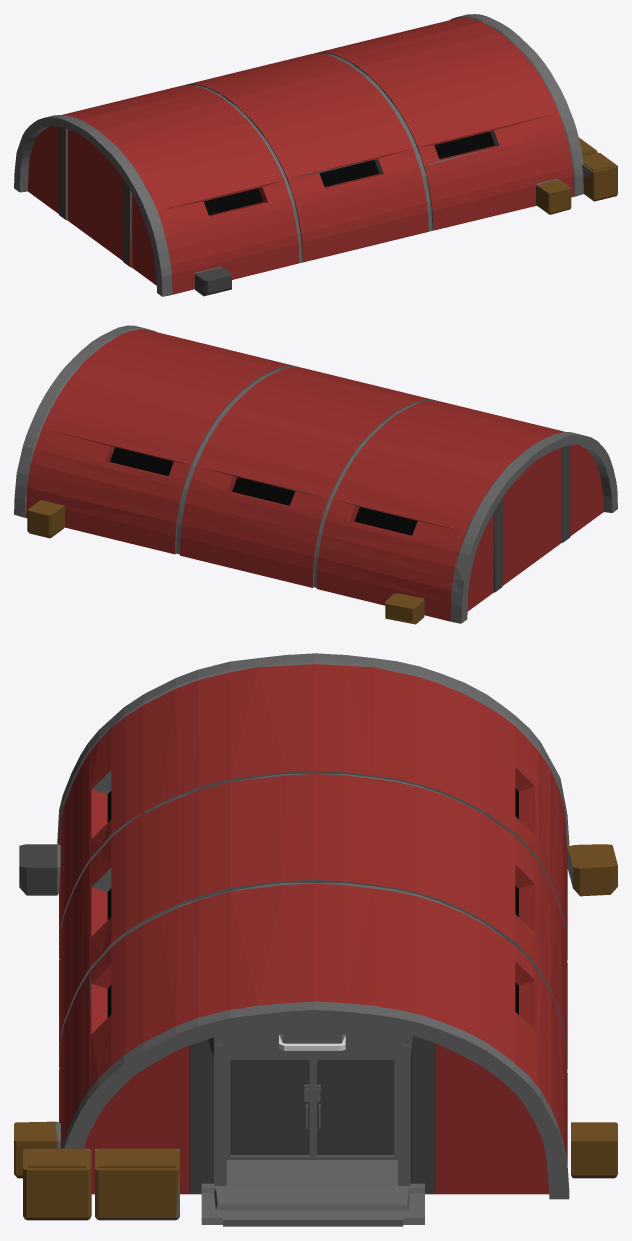
Rendered from building barracks.glb.
The picture shows the model from 3 angles, top to bottom: view 1: azimuth 30°, elevation 25°; view 2: azimuth 150°, elevation 25°; view 3: azimuth 270°, elevation 25°; orthographic projection. The views are drawn at different scales.
Visible parts, largest first — view 1: tripo_node_9400018c-9cc3-415a-bbe2-a365e405f9be; view 2: tripo_node_9400018c-9cc3-415a-bbe2-a365e405f9be; view 3: tripo_node_9400018c-9cc3-415a-bbe2-a365e405f9be.
Boxes of the visible parts, x1,y1,x2,y2 form: tripo_node_9400018c-9cc3-415a-bbe2-a365e405f9be: [14, 14, 617, 296]; tripo_node_9400018c-9cc3-415a-bbe2-a365e405f9be: [14, 325, 617, 624]; tripo_node_9400018c-9cc3-415a-bbe2-a365e405f9be: [14, 653, 617, 1226].
Bounding box in the file's own units: 9.8 × 2.29 × 6.54.
